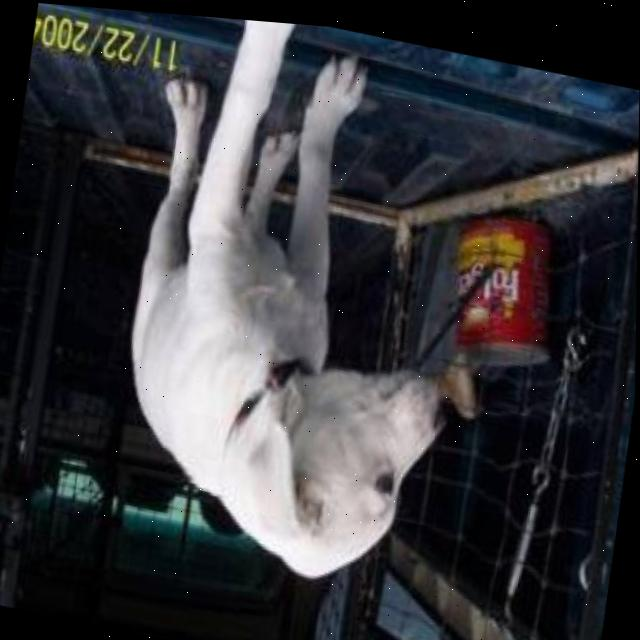dogs: (101, 7, 490, 609)
